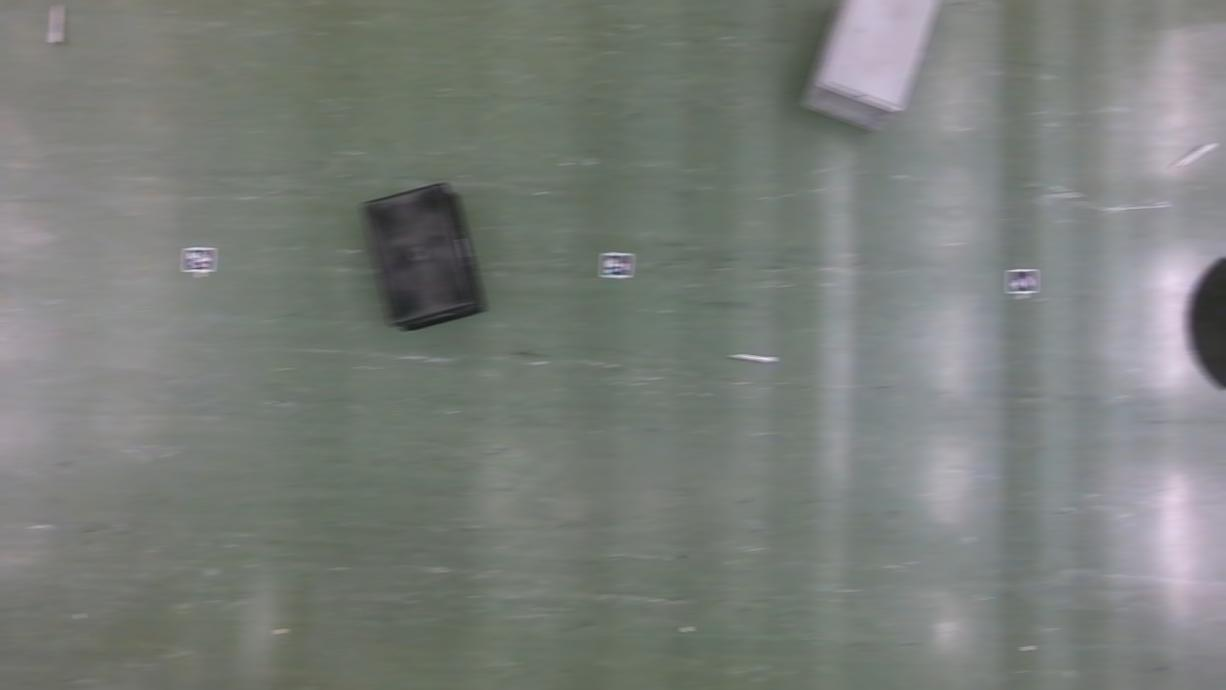probes: (1175, 144, 1213, 171), (732, 353, 774, 363), (51, 6, 62, 44)
rako: (800, 0, 937, 134), (363, 184, 486, 332)
